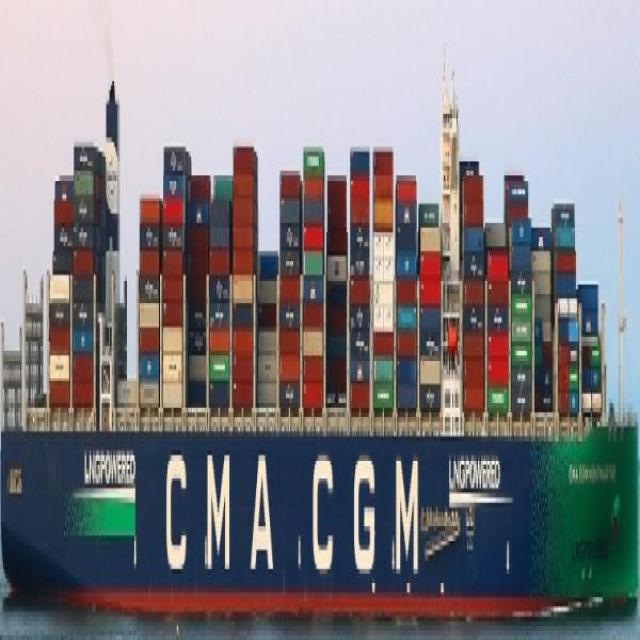Container Ship: (2, 41, 638, 615)
